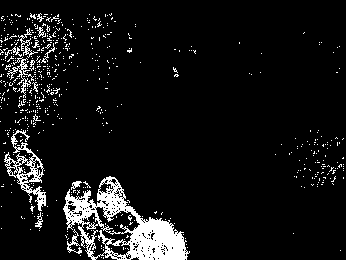person: (4, 127, 50, 230), (64, 178, 98, 260), (100, 177, 129, 259)
